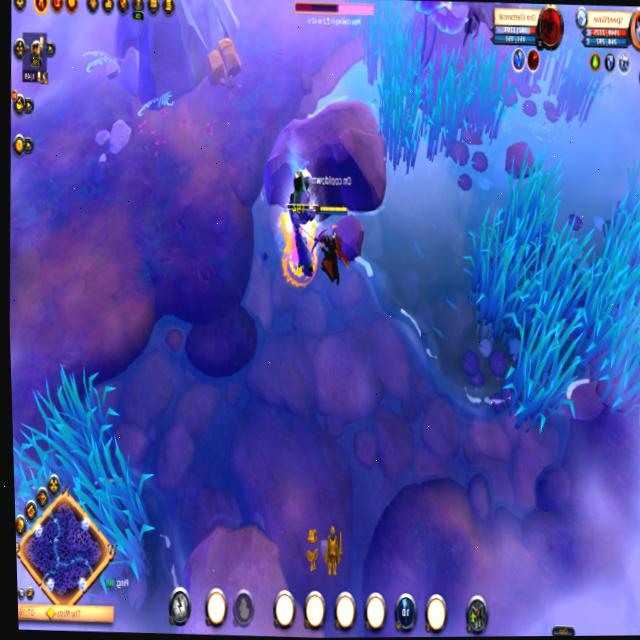ore: (276, 164, 327, 295)
red: (309, 199, 355, 289)
tree: (202, 32, 247, 93)
